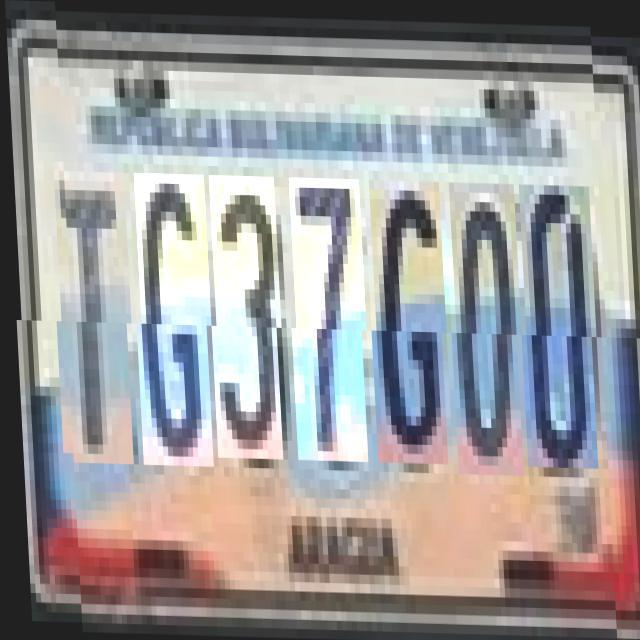0: (516, 181, 598, 465)
3: (206, 174, 284, 458)
7: (286, 176, 368, 460)
G: (132, 172, 214, 466), (366, 178, 448, 462)
O: (447, 180, 524, 473)
T: (52, 170, 134, 464)
